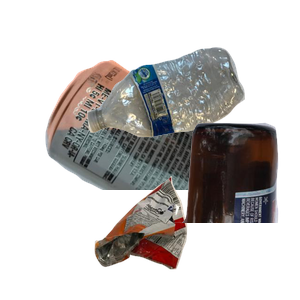glass: (87, 120, 300, 300)
metal: (43, 58, 283, 238)
plastic: (85, 45, 300, 175)
trash: (92, 174, 272, 300)
